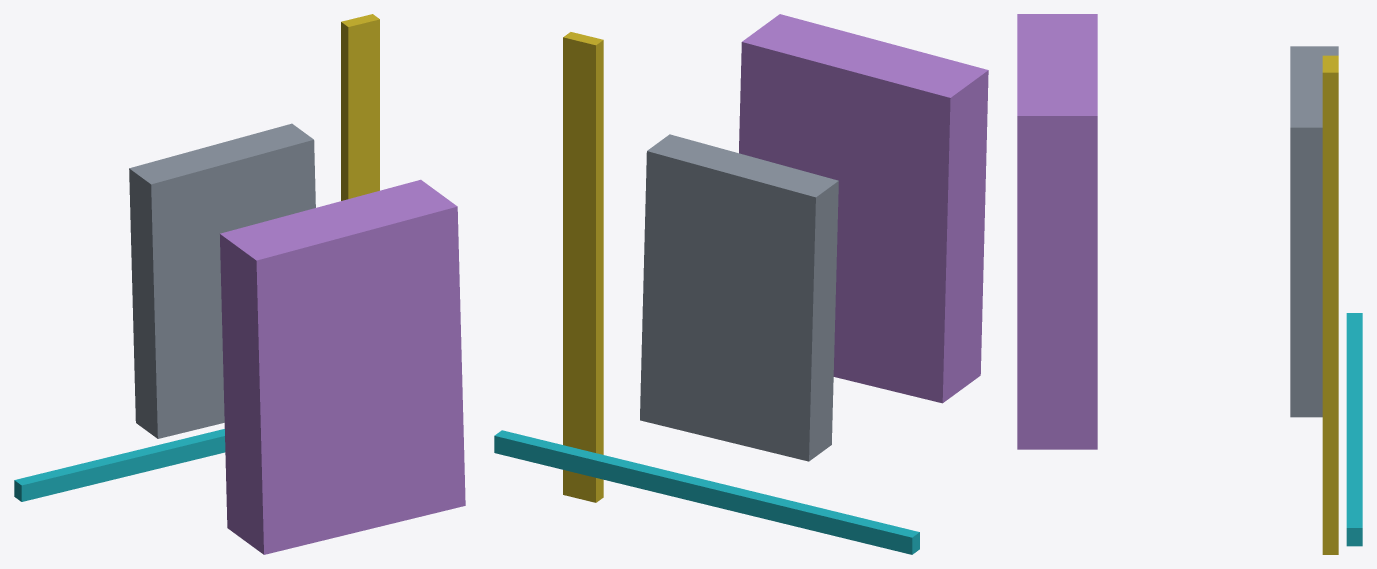
File: underground_entities.glb
The picture shows the model from 3 angles, left to right: view 1: azimuth 30°, elevation 25°; view 2: azimuth 150°, elevation 25°; view 3: azimuth 270°, elevation 25°; orthographic projection. The views are drawn at different scales.
Parts seen in each view (by area): view 1: AS-B01, UG-B01, UG-C01, UG-W01; view 2: AS-B01, UG-B01, UG-C01, UG-W01; view 3: AS-B01, UG-B01, UG-C01, UG-W01.
Part boxes in pixels (bbox=[...]): AS-B01: bbox=[220, 179, 465, 554]; UG-B01: bbox=[129, 123, 315, 438]; UG-C01: bbox=[341, 14, 379, 200]; UG-W01: bbox=[14, 429, 225, 501]; AS-B01: bbox=[739, 14, 988, 403]; UG-B01: bbox=[640, 134, 838, 461]; UG-C01: bbox=[563, 32, 603, 502]; UG-W01: bbox=[494, 430, 919, 554]; AS-B01: bbox=[1017, 14, 1097, 449]; UG-B01: bbox=[1290, 46, 1338, 417]; UG-C01: bbox=[1322, 55, 1338, 554]; UG-W01: bbox=[1346, 313, 1362, 546].
Size of the model in its own units: 31.66 by 33.12 by 21.5.
